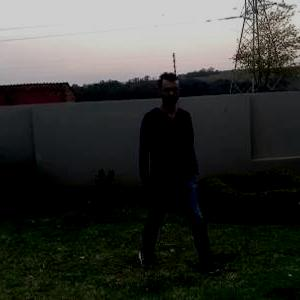follow: (125, 71, 192, 276)
